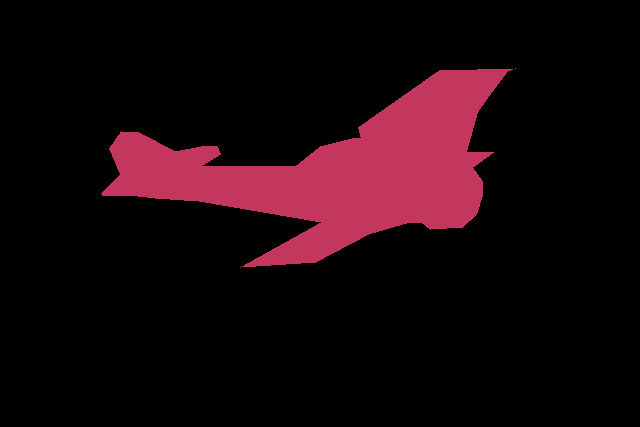Airplane: (101, 68, 516, 268)
